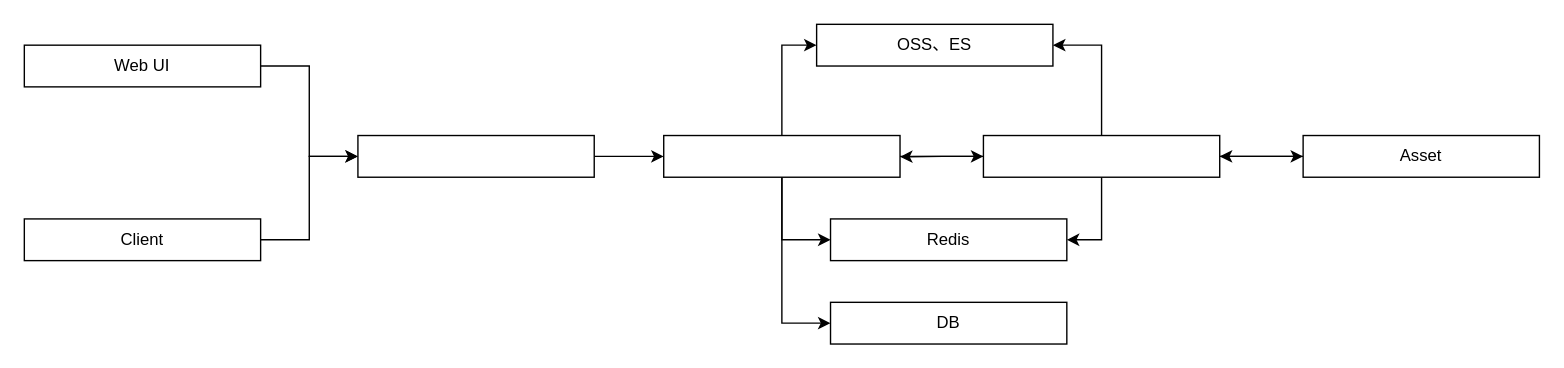
Image size: 1564x368. Some labels were removed from this diagram. The shapes that lost their labels are listed below. From the top down, each one's box as (x1, y1, x2, y2) in pixels, then its label:
(357, 134, 594, 177): API
(662, 134, 900, 177): Core
(982, 134, 1220, 177): Connector
